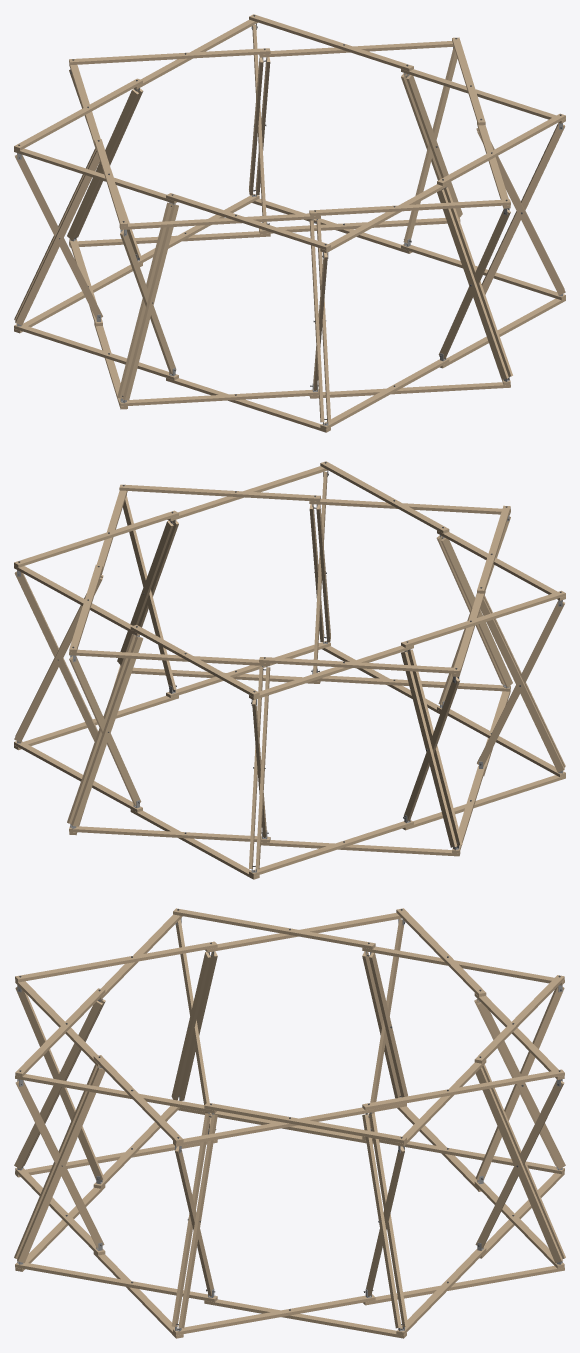
File: LinkageLab_Export_1769826126146.gltf
The picture shows the model from 3 angles, top to bottom: view 1: azimuth 30°, elevation 25°; view 2: azimuth 150°, elevation 25°; view 3: azimuth 270°, elevation 25°; orthographic projection. The views are drawn at different scales.
Visible parts, largest first — view 1: HBeam_Top_0 (×8), HBeam_Top_1 (×8), HBeam_Bottom_0 (×7), HBeam_Bottom_1 (×6), VBeam_6 (×3), VBeam_4 (×3), VBeam_0 (×3), VBeam_5 (×3), VBeam_3 (×2), VBeam_7, VBeam_2, VBeam_1 (×2) (+2 smaller); view 2: HBeam_Top_0 (×8), HBeam_Top_1 (×8), HBeam_Bottom_1 (×7), HBeam_Bottom_0 (×6), VBeam_4 (×3), VBeam_0 (×2), VBeam_6 (×3), VBeam_3 (×2), VBeam_1 (×2), VBeam_5 (×2), VBeam_2 (×2), VBeam_10 (+3 smaller); view 3: HBeam_Top_0 (×8), HBeam_Top_1 (×8), HBeam_Bottom_0 (×8), HBeam_Bottom_1 (×7), VBeam_1 (×3), VBeam_0 (×3), VBeam_6 (×3), VBeam_7 (×3), VBeam_2 (×2), VBeam_4 (×3), VBeam_3 (×2), VBeam_9 (+3 smaller).
Boxes of the visible parts, bbox=[...] form: HBeam_Top_0 (×8): bbox=[14, 14, 565, 250]; HBeam_Top_1 (×8): bbox=[14, 19, 565, 253]; HBeam_Bottom_0 (×7): bbox=[14, 198, 565, 432]; HBeam_Bottom_1 (×6): bbox=[14, 193, 565, 429]; VBeam_6 (×3): bbox=[15, 150, 510, 379]; VBeam_4 (×3): bbox=[117, 57, 263, 398]; VBeam_0 (×3): bbox=[401, 47, 462, 242]; VBeam_5 (×3): bbox=[67, 89, 327, 422]; VBeam_3 (×2): bbox=[15, 131, 565, 319]; VBeam_7: bbox=[122, 204, 178, 400]; VBeam_2: bbox=[482, 123, 564, 294]; VBeam_1 (×2): bbox=[252, 24, 270, 223]; HBeam_Top_0 (×8): bbox=[14, 461, 565, 697]; HBeam_Top_1 (×8): bbox=[14, 466, 565, 700]; HBeam_Bottom_1 (×7): bbox=[14, 640, 565, 876]; HBeam_Bottom_0 (×6): bbox=[14, 646, 565, 879]; VBeam_4 (×3): bbox=[71, 598, 564, 826]; VBeam_0 (×2): bbox=[14, 571, 102, 742]; VBeam_6 (×3): bbox=[313, 471, 462, 845]; VBeam_3 (×2): bbox=[401, 651, 459, 847]; VBeam_1 (×2): bbox=[67, 634, 141, 823]; VBeam_5 (×2): bbox=[255, 537, 512, 869]; VBeam_2 (×2): bbox=[249, 667, 266, 868]; VBeam_10: bbox=[117, 520, 173, 665]; HBeam_Top_0 (×8): bbox=[15, 908, 564, 1143]; HBeam_Top_1 (×8): bbox=[15, 913, 564, 1146]; HBeam_Bottom_0 (×8): bbox=[15, 1106, 564, 1338]; HBeam_Bottom_1 (×7): bbox=[15, 1106, 564, 1335]; VBeam_1 (×3): bbox=[178, 1067, 564, 1327]; VBeam_0 (×3): bbox=[362, 1113, 408, 1328]; VBeam_6 (×3): bbox=[14, 951, 400, 1258]; VBeam_7 (×3): bbox=[171, 952, 213, 1326]; VBeam_2 (×2): bbox=[475, 986, 565, 1179]; VBeam_4 (×3): bbox=[175, 919, 565, 1258]; VBeam_3 (×2): bbox=[368, 919, 407, 1128]; VBeam_9: bbox=[17, 1067, 105, 1262].
Bounding box in the file's own units: 245 × 97.86 × 245.
